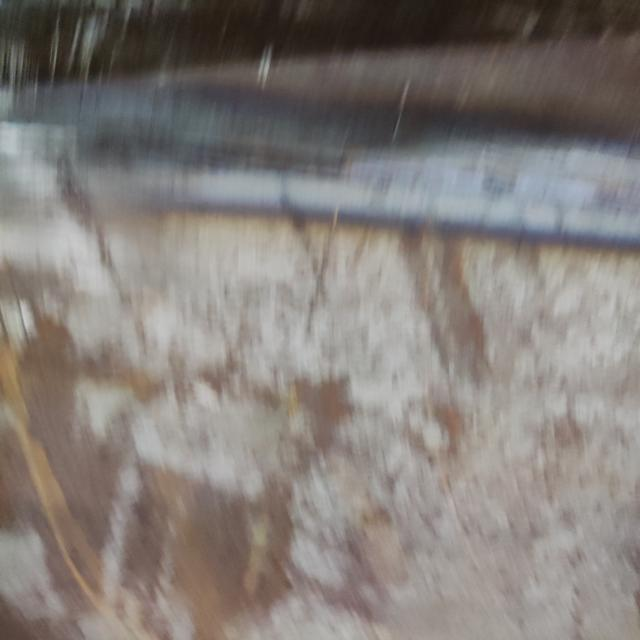seam: (0, 56, 640, 261)
